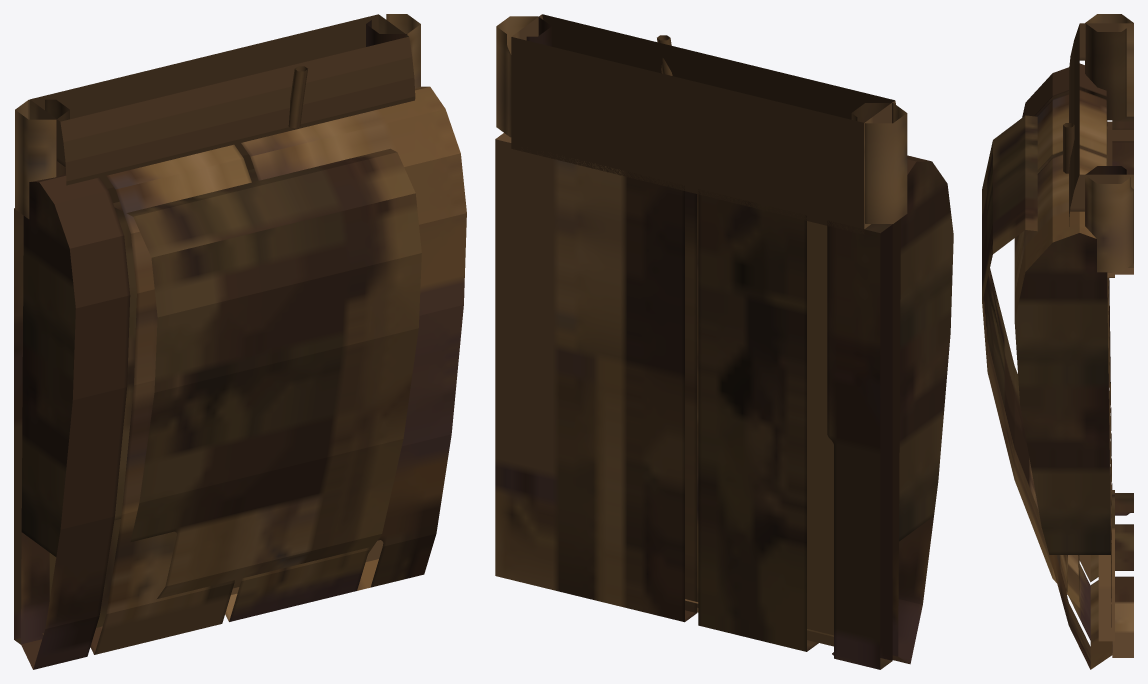
File: section-3.obj
3 renders of one model, left to right at view 1: azimuth 30°, elevation 25°; view 2: azimuth 150°, elevation 25°; view 3: azimuth 270°, elevation 25°, orthographic. The views are drawn at different scales.
Size of the model in its own units: 0.7419 by 0.99 by 0.28.
